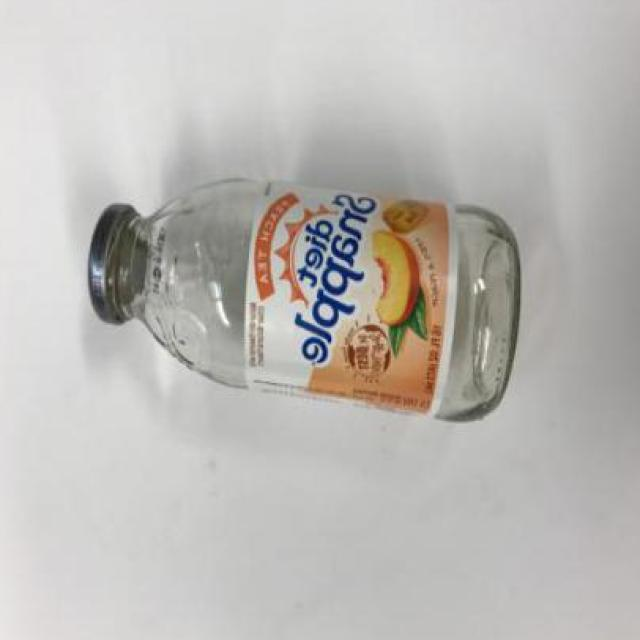kaca: (106, 178, 520, 424)
